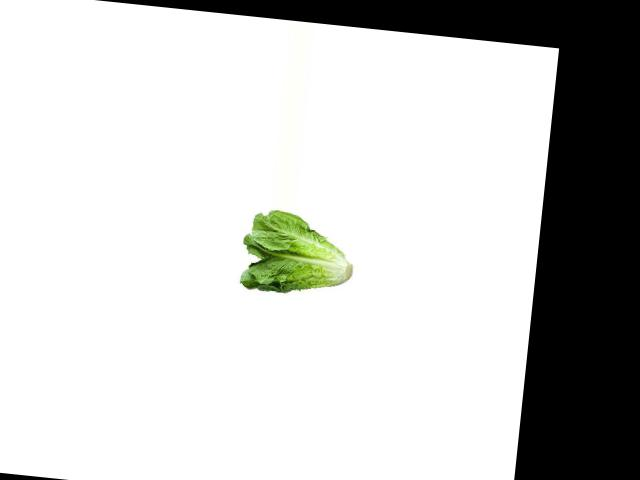lettuce: (238, 208, 360, 302)
